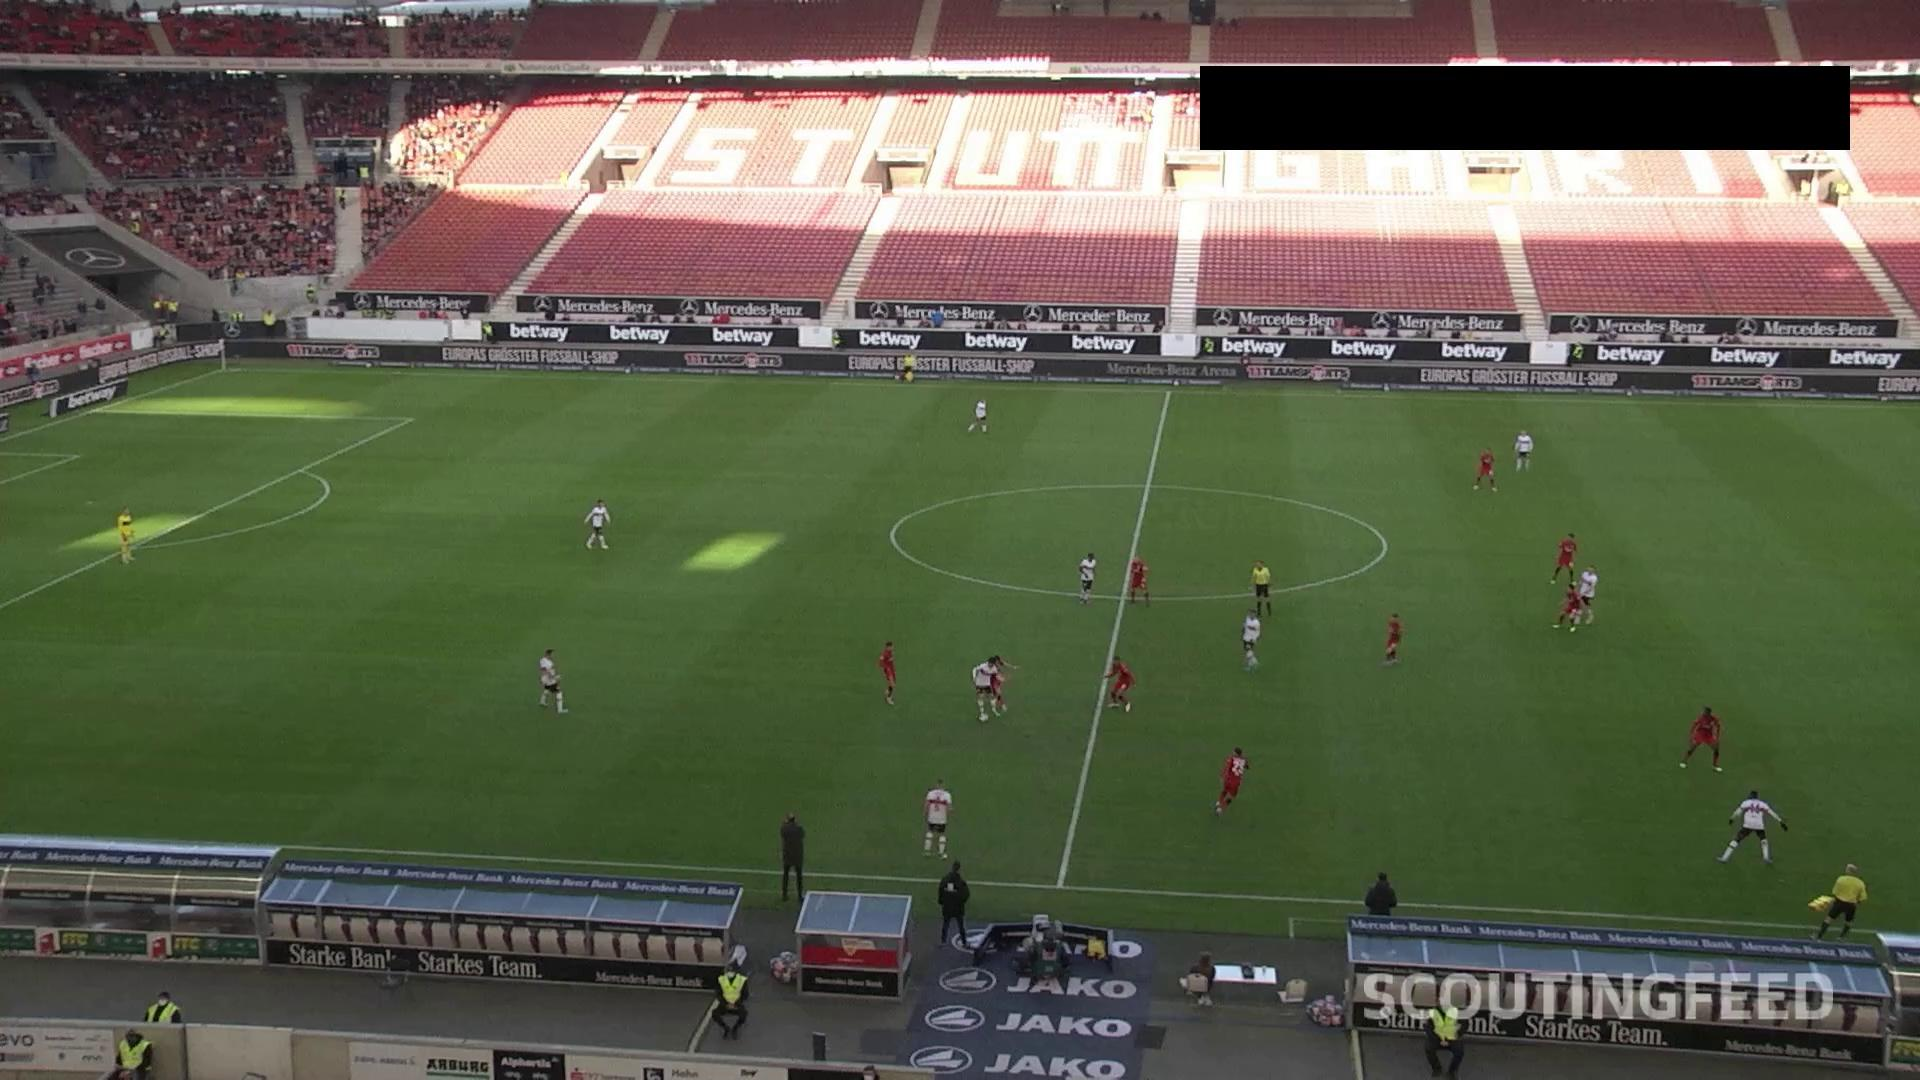Location-of-ball: (975, 703, 1001, 727)
